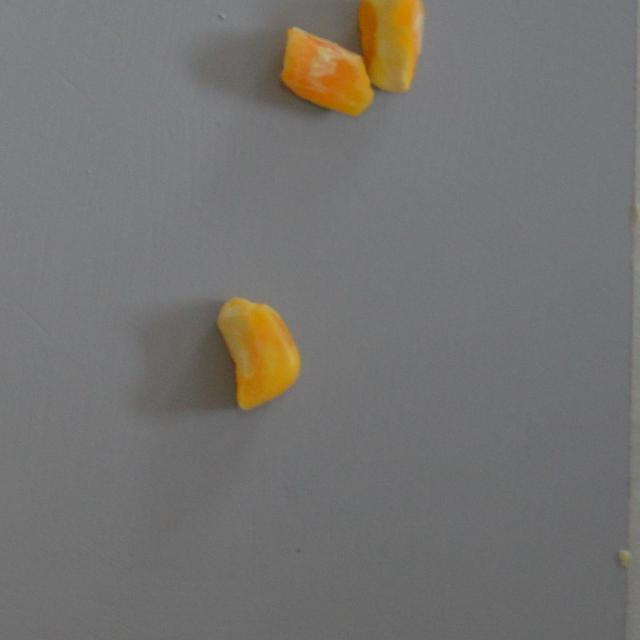dañado: (214, 290, 303, 413), (274, 18, 378, 120), (353, 0, 426, 96)
